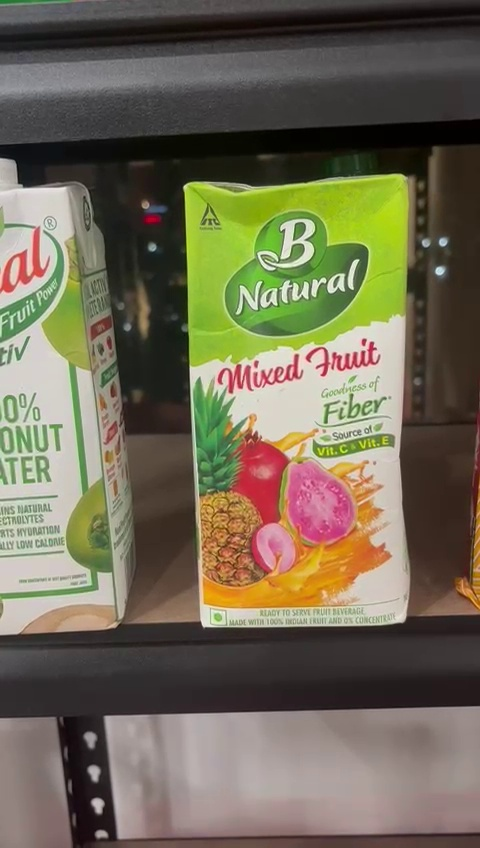Mixed Fruit: (185, 185, 406, 622)
